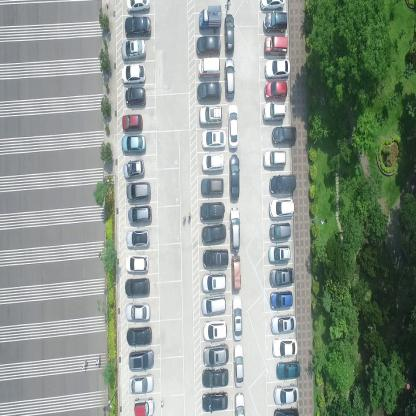car: (202, 318, 228, 343), (203, 343, 229, 368), (226, 103, 240, 148), (198, 4, 222, 30), (267, 198, 295, 220), (128, 349, 154, 372), (272, 336, 299, 358), (272, 384, 299, 406), (124, 16, 152, 37), (263, 11, 288, 34), (201, 222, 226, 245), (121, 62, 146, 85), (195, 34, 221, 56), (200, 127, 226, 149), (202, 390, 228, 412), (121, 40, 147, 62), (128, 373, 154, 395), (265, 33, 288, 57), (270, 266, 294, 289), (229, 152, 240, 202), (126, 182, 151, 204), (126, 302, 151, 324), (203, 248, 229, 269), (202, 367, 228, 388), (127, 204, 153, 225), (125, 228, 151, 249), (124, 277, 150, 298), (229, 207, 241, 252), (199, 104, 223, 126), (200, 176, 224, 198), (201, 274, 226, 295), (271, 126, 297, 146), (270, 314, 296, 334), (199, 202, 225, 222), (201, 296, 227, 316), (269, 175, 296, 194), (125, 326, 152, 345), (224, 58, 236, 100), (121, 134, 145, 155), (263, 80, 288, 100), (197, 82, 222, 102), (233, 343, 244, 387), (126, 253, 148, 275), (197, 57, 220, 78), (265, 59, 289, 79), (263, 102, 287, 122), (268, 244, 292, 264), (232, 295, 242, 343), (276, 361, 301, 380), (125, 86, 146, 108), (123, 159, 145, 180), (270, 290, 293, 310), (201, 153, 224, 173), (132, 396, 156, 415), (224, 14, 235, 54), (269, 222, 291, 241), (121, 114, 144, 132), (263, 150, 287, 167), (231, 254, 242, 290), (259, 0, 286, 14), (126, 0, 150, 13), (273, 405, 300, 415), (235, 390, 245, 415)
